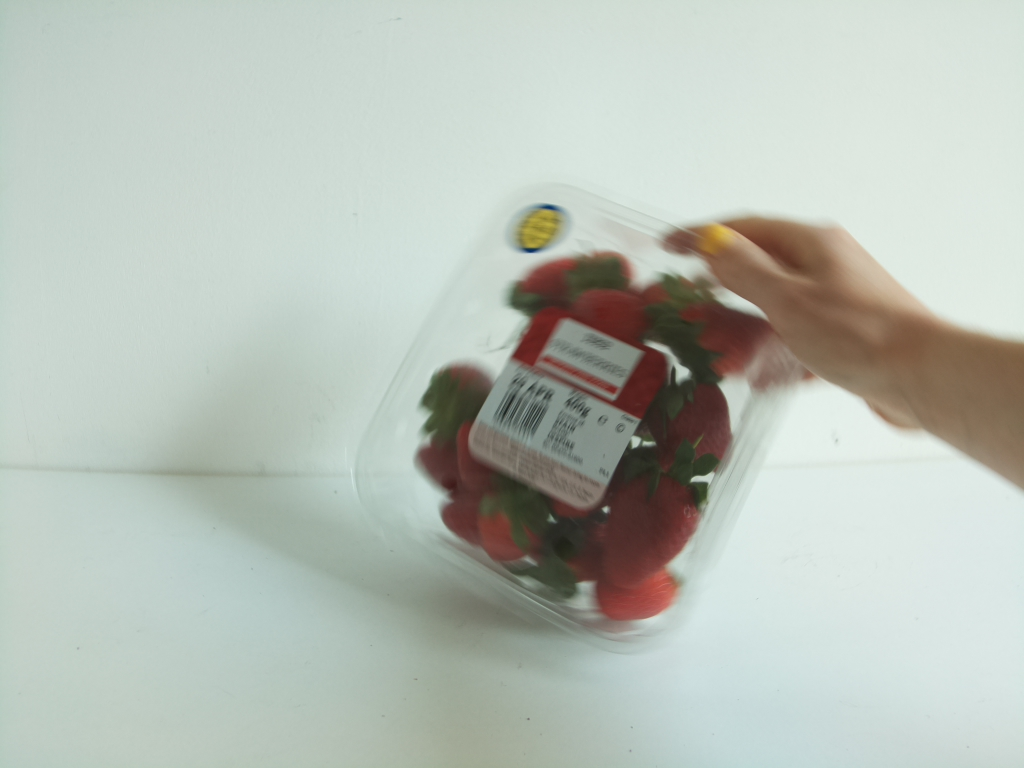soft-fruit: (347, 180, 794, 654)
